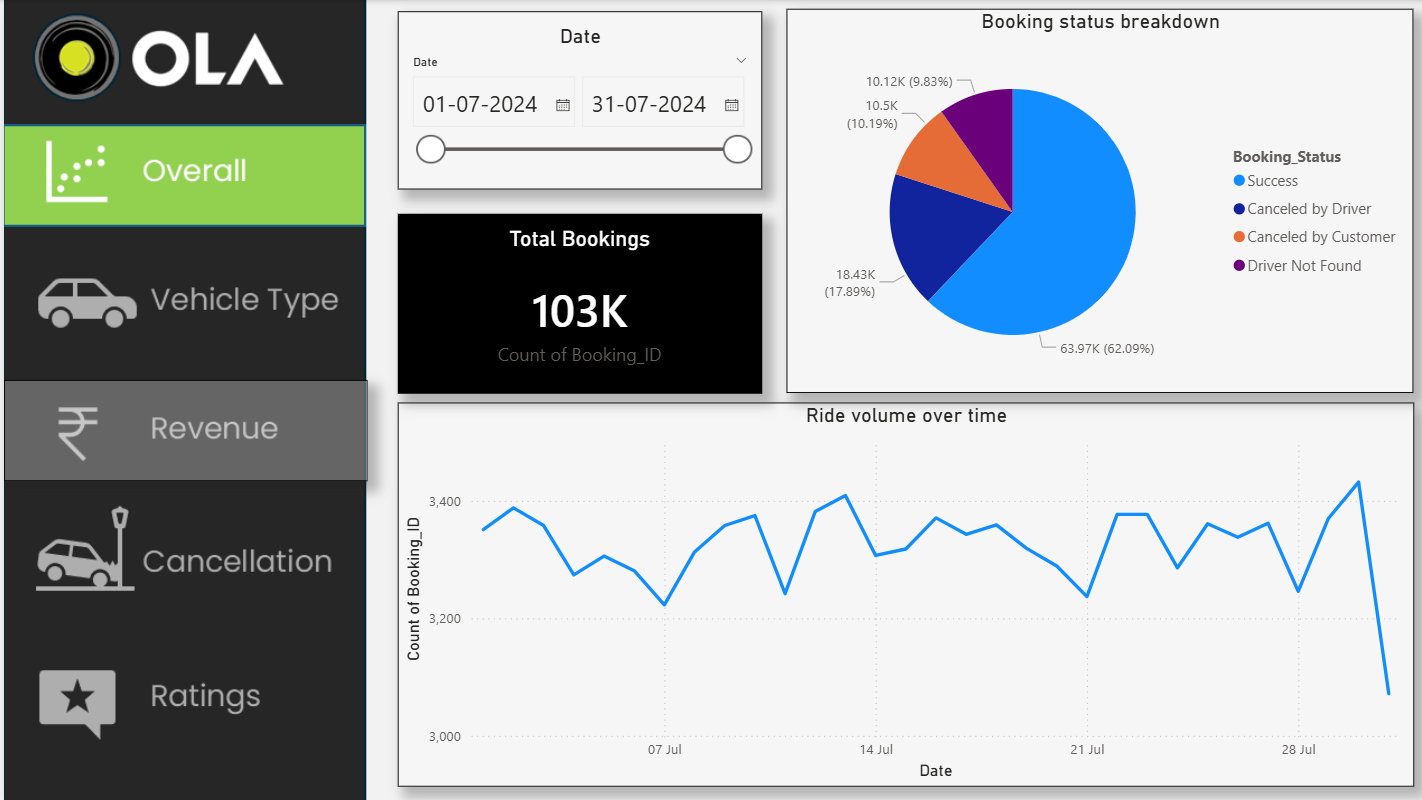

This screenshot's page, from the dashboard's own definition file:
{"tool":"powerbi","page":{"name":"overall","canvas":[1280,720],"ordinal":0},"visuals":[{"type":"actionButton","box":[0,230,324.9,90.4],"z":0},{"type":"actionButton","box":[1.1,230,324.9,90.4],"z":1000},{"type":"actionButton","box":[0,230,324.9,90.4],"z":2000},{"type":"actionButton","box":[0,339.5,324.9,90.4],"z":3000},{"type":"actionButton","box":[0,445.5,324.9,90.4],"z":4000},{"type":"actionButton","box":[0,582.9,324.9,90.4],"z":5000},{"type":"lineChart","title":"Ride volume over time","fields":{"Y":["CountNonNull(July (2).Booking_ID)"],"Category":["July (2).Date"]},"box":[351.2,359.5,907.7,342.9],"z":6000},{"type":"pieChart","title":"Booking status breakdown","fields":{"Category":["July (2).Booking_Status"],"Y":["CountNonNull(July (2).Booking_Status)"]},"box":[698.5,8.2,559.9,343.1],"z":7000},{"type":"slicer","title":"Date","fields":{"Values":["July (2).Date"]},"box":[351.3,9.6,325.2,159.2],"z":8000},{"type":"cardVisual","title":"Total Bookings","fields":{"Data":["Count(July (2).Booking_ID)"]},"box":[351.3,190.7,325.2,160.5],"z":9000}]}

Visuals, with their boxes in screenshot pixels (x1, y1, x2, y2), scaled from the page's 1280x720 canvas onto the 1422x800 screenshot:
actionButton: box=[0, 256, 361, 356]
actionButton: box=[1, 256, 362, 356]
actionButton: box=[0, 256, 361, 356]
actionButton: box=[0, 377, 361, 478]
actionButton: box=[0, 495, 361, 595]
actionButton: box=[0, 648, 361, 748]
"Ride volume over time" lineChart: box=[390, 399, 1399, 780]
"Booking status breakdown" pieChart: box=[776, 9, 1398, 390]
"Date" slicer: box=[390, 11, 752, 188]
"Total Bookings" cardVisual: box=[390, 212, 752, 390]
